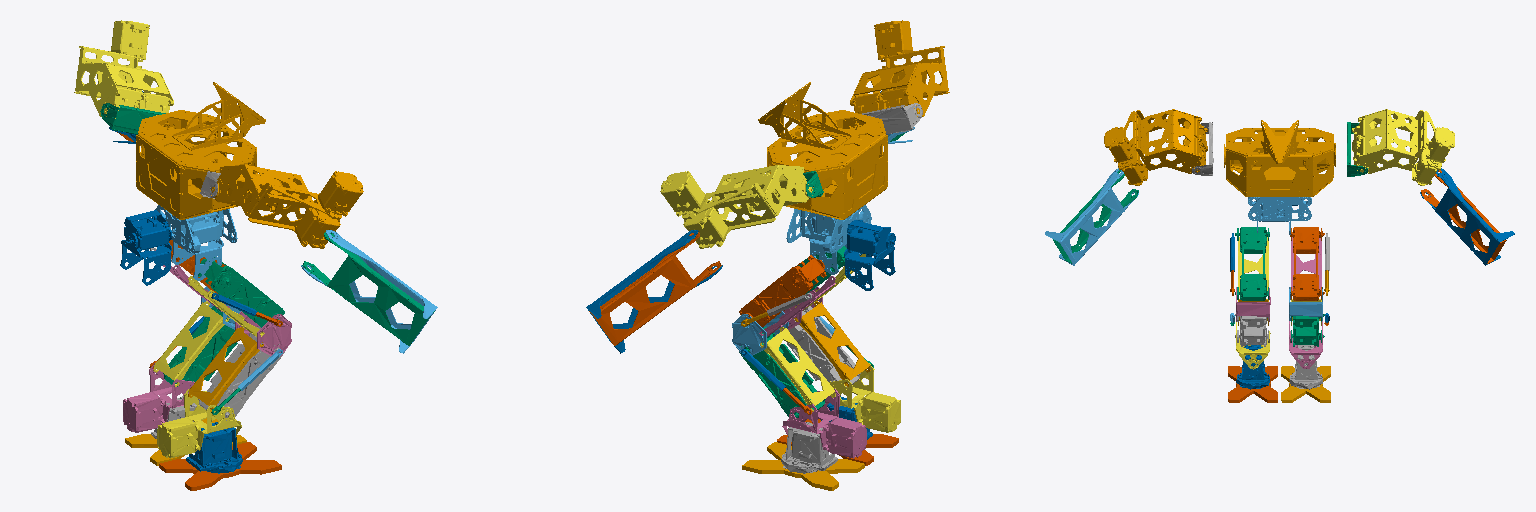
--- Render facts (derived) ---
The picture shows the robot from 3 angles, left to right: view 1: azimuth 30°, elevation 25°; view 2: azimuth 150°, elevation 25°; view 3: azimuth 270°, elevation 25°; orthographic projection.
Robot: ginko — 38 links, 37 joints (33 revolute, 4 prismatic); root link body_link0; default pose: all joints at 0.
Visible links, largest first — view 1: body_link0, arm_r_link1, arm_l_link1, arm_r_link3, leg_l_link0, leg_r_link6, leg_l_link6, leg_r_link1, leg_l_link5, leg_r_link5, leg_r_link8, leg_r_link7 (+9 smaller); view 2: body_link0, arm_l_link1, arm_r_link1, arm_l_link3, leg_l_link6, leg_l_link0, leg_r_link6, leg_l_link1, body_link1, leg_r_link5, leg_l_link5, leg_l_link8 (+9 smaller); view 3: body_link0, arm_l_link1, arm_r_link1, arm_r_link2, arm_l_link2, leg_r_link1, leg_l_link1, body_link1, arm_l_link3, arm_r_link3, leg_r_link8, leg_l_link8 (+8 smaller).
Link boxes in pixels (bbox=[...]): body_link0: bbox=[136, 82, 265, 219]; arm_r_link1: bbox=[211, 165, 363, 248]; arm_l_link1: bbox=[74, 20, 173, 118]; arm_r_link3: bbox=[302, 232, 434, 345]; leg_l_link0: bbox=[120, 210, 171, 285]; leg_r_link6: bbox=[157, 389, 241, 458]; leg_l_link6: bbox=[123, 363, 194, 432]; leg_r_link1: bbox=[198, 257, 284, 327]; leg_l_link5: bbox=[153, 301, 229, 386]; leg_r_link5: bbox=[188, 327, 263, 411]; leg_r_link8: bbox=[159, 442, 281, 490]; leg_r_link7: bbox=[186, 422, 242, 473]; body_link0: bbox=[758, 82, 887, 219]; arm_l_link1: bbox=[660, 165, 813, 248]; arm_r_link1: bbox=[850, 20, 949, 116]; arm_l_link3: bbox=[589, 232, 721, 345]; leg_l_link6: bbox=[782, 389, 866, 458]; leg_l_link0: bbox=[844, 220, 895, 290]; leg_r_link6: bbox=[829, 363, 900, 432]; leg_l_link1: bbox=[739, 255, 826, 326]; body_link1: bbox=[786, 205, 871, 253]; leg_r_link5: bbox=[794, 301, 870, 386]; leg_l_link5: bbox=[760, 327, 835, 411]; leg_l_link8: bbox=[742, 442, 864, 490]; body_link0: bbox=[1224, 120, 1335, 196]; arm_l_link1: bbox=[1352, 109, 1454, 185]; arm_r_link1: bbox=[1104, 109, 1207, 185]; arm_r_link2: bbox=[1045, 168, 1138, 265]; arm_l_link2: bbox=[1420, 168, 1514, 265]; leg_r_link1: bbox=[1235, 227, 1269, 300]; leg_l_link1: bbox=[1290, 227, 1324, 300]; body_link1: bbox=[1248, 197, 1311, 220]; arm_l_link3: bbox=[1421, 170, 1506, 263]; arm_r_link3: bbox=[1053, 170, 1138, 263]; leg_r_link8: bbox=[1228, 366, 1277, 402]; leg_l_link8: bbox=[1281, 366, 1330, 402].
Bounding box of the posed robot: 0.2318 × 0.7537 × 0.4849 m (x, y, z).
Meshes: 27 distinct files referenced, 36 mesh visuals loaded (26 binary STL); not drawn: 2 (reference not matched to a file when rendering).

URDF robot description (ginko):
<?xml version="1.0" ?>
<!-- =================================================================================== -->
<!-- |    This document was autogenerated by xacro from ./urdf_sim/robot_gazebo_spring.urdf.xacro | -->
<!-- |    EDITING THIS FILE BY HAND IS NOT RECOMMENDED                                 | -->
<!-- =================================================================================== -->
<robot name="ginko" xmlns:xacro="http://www.ros.org/wiki/xacro">
  <!-- Used for fixing robot to Gazebo 'base_link' -->
  <!-- <link name="base"/> -->
  <gazebo>
    <plugin filename="libgazebo_ros_control.so" name="gazebo_ros_control">
      <robotNamespace>/ginko</robotNamespace>
      <robotSimType>gazebo_ros_control/DefaultRobotHWSim</robotSimType>
    </plugin>
  </gazebo>
  <!-- chest -->
  <link name="body_link0">
    <collision>
      <origin rpy="0 0 0" xyz="0 0 0"/>
      <geometry>
        <mesh filename="package://ginko_description/meshes/stl/link00_chest.stl"/>
      </geometry>
    </collision>
    <visual>
      <origin rpy="0 0 0" xyz="0 0 0"/>
      <geometry>
        <mesh filename="package://ginko_description/meshes/stl/link00_chest.stl"/>
      </geometry>
    </visual>
    <inertial>
      <mass value="1.41502697"/>
      <origin rpy="0 0 0" xyz="0.00008301 0.00000908 0.03819562"/>
      <inertia ixx="0.00248548" ixy="-0.00000074" ixz="0.000003761" iyy="0.00121388" iyz="-0.00000042" izz="0.00287756"/>
    </inertial>
  </link>
  <!-- waist -->
  <link name="body_link1">
    <collision>
      <origin rpy="0 0 0" xyz="0 0 0"/>
      <geometry>
        <mesh filename="package://ginko_description/meshes/stl/link01_waist.stl"/>
      </geometry>
    </collision>
    <visual>
      <origin rpy="0 0 0" xyz="0 0 0"/>
      <geometry>
        <mesh filename="package://ginko_description/meshes/stl/link01_waist.stl"/>
      </geometry>
    </visual>
    <inertial>
      <mass value="0.33312665"/>
      <origin rpy="0 0 0" xyz="-0.01135452 -0.00000134 -0.02720222"/>
      <inertia ixx="0.00015328" ixy="0.00000003" ixz="0.00001078" iyy="0.00073745" iyz="0.00000000" izz="0.00073107"/>
    </inertial>
  </link>
  <joint name="body_joint1" type="revolute">
    <parent link="body_link0"/>
    <child link="body_link1"/>
    <origin rpy="0 0 0" xyz="0 0 0"/>
    <axis xyz="0 0 1"/>
    <limit effort="100.0" lower="-2.6" upper="2.6" velocity="10.0"/>
  </joint>
  <!-- chest -->
  <gazebo reference="body_link0">
    <kp>1000000.0</kp>
    <kd>100.0</kd>
    <mu1>1.0</mu1>
    <maxVel>1.0</maxVel>
    <minDepth>0.0001</minDepth>
    <maxContacts>5</maxContacts>
    <selfCollide>false</selfCollide>
    <!-- <dampingFactor>0.01</dampingFactor> -->
  </gazebo>
  <transmission name="body_tran0">
    <type>transmission_interface/SimpleTransmission</type>
    <joint name="body_joint1">
      <hardwareInterface>hardware_interface/EffortJointInterface</hardwareInterface>
    </joint>
    <actuator name="body_motor0">
      <hardwareInterface>hardware_interface/EffortJointInterface</hardwareInterface>
      <mechanicalReduction>1</mechanicalReduction>
    </actuator>
  </transmission>
  <!-- waist -->
  <gazebo reference="body_link1">
    <kp>1000000.0</kp>
    <kd>100.0</kd>
    <mu1>1.0</mu1>
    <maxVel>1.0</maxVel>
    <minDepth>0.0001</minDepth>
    <maxContacts>5</maxContacts>
    <selfCollide>false</selfCollide>
    <!-- <dampingFactor>0.01</dampingFactor> -->
  </gazebo>
  <!-- shoulder pitch. -->
  <link name="arm_l_link0">
    <collision>
      <origin rpy="0 0 0" xyz="0 0 0"/>
      <geometry>
        <mesh filename="package://ginko_description/meshes/stl/link09_l_arm01.stl"/>
      </geometry>
    </collision>
    <visual>
      <origin rpy="0 0 0" xyz="0 0 0"/>
      <geometry>
        <mesh filename="package://ginko_description/meshes/stl/link09_l_arm01.stl"/>
      </geometry>
    </visual>
    <inertial>
      <mass value="0.01356014"/>
      <origin rpy="0 0 0" xyz="-0.01125790 0.00529265 0.00000000"/>
      <inertia ixx="0.00000235" ixy="0.00000004" ixz="0.00000000" iyy="0.00001670" iyz="0.00000000" izz="0.00001606"/>
    </inertial>
  </link>
  <joint name="arm_l_joint0" type="revolute">
    <parent link="body_link0"/>
    <child link="arm_l_link0"/>
    <origin rpy="0 0.3927 0" xyz="0 0.10683 0.05115"/>
    <axis xyz="0 -1 0"/>
    <limit effort="100.0" lower="-2.6" upper="2.6" velocity="10.0"/>
  </joint>
  <!-- shoulder roll -->
  <link name="arm_l_link1">
    <collision>
      <origin rpy="0 0 0" xyz="0 0 0"/>
      <geometry>
        <mesh filename="package://ginko_description/meshes/stl/link10_l_arm02.stl"/>
      </geometry>
    </collision>
    <visual>
      <origin rpy="0 0 0" xyz="0 0 0"/>
      <geometry>
        <mesh filename="package://ginko_description/meshes/stl/link10_l_arm02.stl"/>
      </geometry>
    </visual>
    <inertial>
      <mass value="0.33139947"/>
      <origin rpy="0 0 0" xyz="-0.02612786 0.02650564 -0.06333369"/>
      <inertia ixx="0.00115128" ixy="0.00015366" ixz="-0.00031848" iyy="0.00113572" iyz="-0.00037104" izz="0.00064743"/>
    </inertial>
  </link>
  <joint name="arm_l_joint1" type="revolute">
    <parent link="arm_l_link0"/>
    <child link="arm_l_link1"/>
    <origin rpy="1.1781 0 0" xyz="0.035 0.0246 0"/>
    <axis xyz="1 0 0"/>
    <limit effort="100.0" lower="-0.85" upper="1.18" velocity="10.0"/>
  </joint>
  <!-- scissors -->
  <link name="arm_l_link2">
    <collision>
      <origin rpy="0 0 0" xyz="0 0 0"/>
      <geometry>
        <mesh filename="package://ginko_description/meshes/stl/link11_l_scissor01.stl"/>
      </geometry>
    </collision>
    <visual>
      <origin rpy="0 0 0" xyz="0 0 0"/>
      <geometry>
        <mesh filename="package://ginko_description/meshes/stl/link11_l_scissor01.stl"/>
      </geometry>
    </visual>
    <inertial>
      <mass value="0.03287850"/>
      <origin rpy="0 0 0" xyz="0.08234859 -0.030246866 0.00514112"/>
      <inertia ixx="0.00002277" ixy="-0.00000014" ixz="-0.00000058" iyy="0.00008197" iyz="-0.00000001" izz="0.00010105"/>
    </inertial>
  </link>
  <joint name="arm_l_joint2" type="revolute">
    <parent link="arm_l_link1"/>
    <child link="arm_l_link2"/>
    <origin rpy="0 0.7854 0" xyz="0.0092 0.0547 -0.11295"/>
    <axis xyz="0 1 0"/>
    <limit effort="100.0" lower="-2.36" upper="2.36" velocity="10.0"/>
  </joint>
  <link name="arm_l_link3">
    <collision>
      <origin rpy="0 0 0" xyz="0 0 0"/>
      <geometry>
        <mesh filename="package://ginko_description/meshes/stl/link12_l_scissor02.stl"/>
      </geometry>
    </collision>
    <visual>
      <origin rpy="0 0 0" xyz="0 0 0"/>
      <geometry>
        <mesh filename="package://ginko_description/meshes/stl/link12_l_scissor02.stl"/>
      </geometry>
    </visual>
    <inertial>
      <mass value="0.02936110"/>
      <origin rpy="0 0 0" xyz="0.07807033 0.02515230 -0.00665437"/>
      <inertia ixx="0.00001452" ixy="0.00000023" ixz="-0.00000245" iyy="0.00006407" iyz="-0.00000002" izz="0.00008024"/>
    </inertial>
  </link>
  <joint name="arm_l_joint3" type="revolute">
    <parent link="arm_l_link1"/>
    <child link="arm_l_link3"/>
    <origin rpy="0 0.7854 0" xyz="0.0092 -0.0018 -0.11295"/>
    <axis xyz="0 1 0"/>
    <limit effort="100.0" lower="-2.36" upper="2.36" velocity="10.0"/>
  </joint>
  <!-- LiDAR -->
  <link name="arm_l_urg_link">
    <collision>
      <origin rpy="0 0 0" xyz="0 0 0"/>
      <geometry>
        <mesh filename="package://ginko_description/meshes/stl/urg.stl"/>
      </geometry>
    </collision>
    <visual>
      <origin rpy="0 0 0" xyz="0 0 0"/>
      <geometry>
        <mesh filename="package://ginko_description/meshes/stl/urg.stl"/>
      </geometry>
    </visual>
    <inertial>
      <mass value="0.16705492"/>
      <origin rpy="0 0 0" xyz="-0.00014579 0.00000831 -0.02360505"/>
      <inertia ixx="0.00008801" ixy="0.00000000" ixz="-0.00000049" iyy="0.00008854" iyz="-0.00000004" izz="0.00006019"/>
    </inertial>
  </link>
  <!-- use zero-limited revolute joint for fixed joint (SDF) -->
  <joint name="arm_l_urg_joint" type="revolute">
    <parent link="arm_l_link1"/>
    <child link="arm_l_urg_link"/>
    <origin rpy="0 1.57 -1.57" xyz="-0.0456 -0.01715 -0.06795"/>
    <axis xyz="0 0 1"/>
    <limit effort="0.0" lower="0.0" upper="0.0" velocity="0.0"/>
  </joint>
  <!-- shoulder pitch. -->
  <gazebo reference="arm_l_link0">
    <kp>1000000.0</kp>
    <kd>100.0</kd>
    <mu1>1.0</mu1>
    <maxVel>1.0</maxVel>
    <minDepth>0.0001</minDepth>
    <maxContacts>5</maxContacts>
    <selfCollide>false</selfCollide>
    <!-- <dampingFactor>0.01</dampingFactor> -->
  </gazebo>
  <!-- shoulder roll -->
  <gazebo reference="arm_l_link1">
    <kp>1000000.0</kp>
    <kd>100.0</kd>
    <mu1>1.0</mu1>
    <maxVel>1.0</maxVel>
    <minDepth>0.0001</minDepth>
    <maxContacts>5</maxContacts>
    <selfCollide>false</selfCollide>
    <!-- <dampingFactor>0.01</dampingFactor> -->
  </gazebo>
  <!-- scissors -->
  <gazebo reference="arm_l_link2">
    <kp>1000000.0</kp>
    <kd>100.0</kd>
    <mu1>1.0</mu1>
    <maxVel>1.0</maxVel>
    <minDepth>0.0001</minDepth>
    <maxContacts>5</maxContacts>
    <selfCollide>false</selfCollide>
    <!-- <dampingFactor>0.01</dampingFactor> -->
  </gazebo>
  <gazebo reference="arm_l_link3">
    <kp>1000000.0</kp>
    <kd>100.0</kd>
    <mu1>1.0</mu1>
    <maxVel>1.0</maxVel>
    <minDepth>0.0001</minDepth>
    <maxContacts>5</maxContacts>
    <selfCollide>false</selfCollide>
    <!-- <dampingFactor>0.01</dampingFactor> -->
  </gazebo>
  <transmission name="arm_l_tran0">
    <type>transmission_interface/SimpleTransmission</type>
    <joint name="arm_l_joint0">
      <hardwareInterface>hardware_interface/EffortJointInterface</hardwareInterface>
    </joint>
    <actuator name="arm_l_motor0">
      <hardwareInterface>hardware_interface/EffortJointInterface</hardwareInterface>
      <mechanicalReduction>1</mechanicalReduction>
    </actuator>
  </transmission>
  <transmission name="arm_l_tran1">
    <type>transmission_interface/SimpleTransmission</type>
    <joint name="arm_l_joint1">
      <hardwareInterface>hardware_interface/EffortJointInterface</hardwareInterface>
    </joint>
    <actuator name="arm_l_motor1">
      <hardwareInterface>hardware_interface/EffortJointInterface</hardwareInterface>
      <mechanicalReduction>1</mechanicalReduction>
    </actuator>
  </transmission>
  <transmission name="arm_l_tran2">
    <type>transmission_interface/SimpleTransmission</type>
    <joint name="arm_l_joint2">
      <hardwareInterface>hardware_interface/EffortJointInterface</hardwareInterface>
    </joint>
    <actuator name="arm_l_motor2">
      <hardwareInterface>hardware_interface/EffortJointInterface</hardwareInterface>
      <mechanicalReduction>1</mechanicalReduction>
    </actuator>
  </transmission>
  <transmission name="arm_l_tran3">
    <type>transmission_interface/SimpleTransmission</type>
    <joint name="arm_l_joint3">
      <hardwareInterface>hardware_interface/EffortJointInterface</hardwareInterface>
    </joint>
    <actuator name="arm_l_motor3">
      <hardwareInterface>hardware_interface/EffortJointInterface</hardwareInterface>
      <mechanicalReduction>1</mechanicalReduction>
    </actuator>
  </transmission>
  <!-- shoulder pitch. -->
  <link name="arm_r_link0">
    <collision>
      <origin rpy="0 0 0" xyz="0 0 0"/>
      <geometry>
        <mesh filename="package://ginko_description/meshes/stl/link09_r_arm01.stl"/>
      </geometry>
    </collision>
    <visual>
      <origin rpy="0 0 0" xyz="0 0 0"/>
      <geometry>
        <mesh filename="package://ginko_description/meshes/stl/link09_r_arm01.stl"/>
      </geometry>
    </visual>
    <inertial>
      <mass value="0.01356014"/>
      <origin rpy="0 0 0" xyz="-0.01125790 -0.00529265 0.00000000"/>
      <inertia ixx="0.00000235" ixy="-0.00000004" ixz="0.00000000" iyy="0.00001670" iyz="0.00000000" izz="0.00001606"/>
    </inertial>
  </link>
  <joint name="arm_r_joint0" type="revolute">
    <parent link="body_link0"/>
    <child link="arm_r_link0"/>
    <origin rpy="0 0.3927 0" xyz="0 -0.10683 0.05115"/>
    <axis xyz="0 1 0"/>
    <limit effort="100.0" lower="-2.6" upper="2.6" velocity="10.0"/>
  </joint>
  <!-- shoulder roll -->
  <link name="arm_r_link1">
    <collision>
      <origin rpy="0 0 0" xyz="0 0 0"/>
      <geometry>
        <mesh filename="package://ginko_description/meshes/stl/link10_r_arm02.stl"/>
      </geometry>
    </collision>
    <visual>
      <origin rpy="0 0 0" xyz="0 0 0"/>
      <geometry>
        <mesh filename="package://ginko_description/meshes/stl/link10_r_arm02.stl"/>
      </geometry>
    </visual>
    <inertial>
      <mass value="0.33139947"/>
      <origin rpy="0 0 0" xyz="-0.02612786 -0.02650564 -0.06333369"/>
      <inertia ixx="0.00115128" ixy="-0.00015366" ixz="-0.00031848" iyy="0.00113572" iyz="0.00037104" izz="0.00064743"/>
    </inertial>
  </link>
  <joint name="arm_r_joint1" type="revolute">
    <parent link="arm_r_link0"/>
    <child link="arm_r_link1"/>
    <origin rpy="-1.1781 0 0" xyz="0.035 -0.0246 0"/>
    <axis xyz="1 0 0"/>
    <limit effort="100.0" lower="-0.85" upper="1.18" velocity="10.0"/>
  </joint>
  <!-- scissors -->
  <link name="arm_r_link2">
    <collision>
      <origin rpy="0 0 0" xyz="0 0 0"/>
      <geometry>
        <mesh filename="package://ginko_description/meshes/stl/link11_r_scissor01.stl"/>
      </geometry>
    </collision>
    <visual>
      <origin rpy="0 0 0" xyz="0 0 0"/>
      <geometry>
        <mesh filename="package://ginko_description/meshes/stl/link11_r_scissor01.stl"/>
      </geometry>
    </visual>
    <inertial>
      <mass value="0.03287850"/>
      <origin rpy="0 0 0" xyz="0.08234859 0.030246866 0.00514112"/>
      <inertia ixx="0.00002277" ixy="0.00000014" ixz="-0.00000058" iyy="0.00008197" iyz="0.00000001" izz="0.00010105"/>
    </inertial>
  </link>
  <joint name="arm_r_joint2" type="revolute">
    <parent link="arm_r_link1"/>
    <child link="arm_r_link2"/>
    <origin rpy="0 0.7854 0" xyz="0.0092 -0.0547 -0.11295"/>
    <axis xyz="0 -1 0"/>
    <limit effort="100.0" lower="-2.36" upper="2.36" velocity="10.0"/>
  </joint>
  <link name="arm_r_link3">
    <collision>
      <origin rpy="0 0 0" xyz="0 0 0"/>
      <geometry>
        <mesh filename="package://ginko_description/meshes/stl/link12_r_scissor02.stl"/>
      </geometry>
    </collision>
    <visual>
      <origin rpy="0 0 0" xyz="0 0 0"/>
      <geometry>
        <mesh filename="package://ginko_description/meshes/stl/link12_r_scissor02.stl"/>
      </geometry>
    </visual>
    <inertial>
      <mass value="0.02936110"/>
      <origin rpy="0 0 0" xyz="0.07807033 -0.02515230 -0.00665437"/>
      <inertia ixx="0.00001452" ixy="-0.00000023" ixz="-0.00000245" iyy="0.00006407" iyz="0.00000002" izz="0.00008024"/>
    </inertial>
  </link>
  <joint name="arm_r_joint3" type="revolute">
    <parent link="arm_r_link1"/>
    <child link="arm_r_link3"/>
    <origin rpy="0 0.7854 0" xyz="0.0092 0.0018 -0.11295"/>
    <axis xyz="0 -1 0"/>
    <limit effort="100.0" lower="-2.36" upper="2.36" velocity="10.0"/>
  </joint>
  <!-- LiDAR -->
  <link name="arm_r_urg_link">
    <collision>
      <origin rpy="0 0 0" xyz="0 0 0"/>
      <geometry>
        <mesh filename="package://ginko_description/meshes/stl/urg.stl"/>
      </geometry>
    </collision>
    <visual>
      <origin rpy="0 0 0" xyz="0 0 0"/>
      <geometry>
        <mesh filename="package://ginko_description/meshes/stl/urg.stl"/>
      </geometry>
    </visual>
    <inertial>
      <mass value="0.16705492"/>
      <origin rpy="0 0 0" xyz="-0.00014579 0.00000831 -0.02360505"/>
      <inertia ixx="0.00008801" ixy="0.00000000" ixz="-0.00000049" iyy="0.00008854" iyz="-0.00000004" izz="0.00006019"/>
    </inertial>
  </link>
  <!-- use zero-limited revolute joint for fixed joint (SDF) -->
  <joint name="arm_r_urg_joint" type="revolute">
    <parent link="arm_r_link1"/>
    <child link="arm_r_urg_link"/>
    <origin rpy="0 1.57 1.57" xyz="-0.0456 0.01715 -0.06795"/>
    <axis xyz="0 0 1"/>
    <limit effort="0.0" lower="0.0" upper="0.0" velocity="0.0"/>
  </joint>
  <!-- shoulder pitch. -->
  <gazebo reference="arm_r_link0">
    <kp>1000000.0</kp>
    <kd>100.0</kd>
    <mu1>1.0</mu1>
    <maxVel>1.0</maxVel>
    <minDepth>0.0001</minDepth>
    <maxContacts>5</maxContacts>
    <selfCollide>false</selfCollide>
    <!-- <dampingFactor>0.01</dampingFactor> -->
  </gazebo>
  <!-- shoulder roll -->
  <gazebo reference="arm_r_link1">
    <kp>1000000.0</kp>
    <kd>100.0</kd>
    <mu1>1.0</mu1>
    <maxVel>1.0</maxVel>
    <minDepth>0.0001</minDepth>
    <maxContacts>5</maxContacts>
    <selfCollide>false</selfCollide>
    <!-- <dampingFactor>0.01</dampingFactor> -->
  </gazebo>
  <!-- scissors -->
  <gazebo reference="arm_r_link2">
    <kp>1000000.0</kp>
    <kd>100.0</kd>
    <mu1>1.0</mu1>
    <maxVel>1.0</maxVel>
    <minDepth>0.0001</minDepth>
    <maxContacts>5</maxContacts>
    <selfCollide>false</selfCollide>
    <!-- <dampingFactor>0.01</dampingFactor> -->
  </gazebo>
  <gazebo reference="arm_r_link3">
    <kp>1000000.0</kp>
    <kd>100.0</kd>
    <mu1>1.0</mu1>
    <maxVel>1.0</maxVel>
    <minDepth>0.0001</minDepth>
    <maxContacts>5</maxContacts>
    <selfCollide>false</selfCollide>
    <!-- <dampingFactor>0.01</dampingFactor> -->
  </gazebo>
  <transmission name="arm_r_tran0">
    <type>transmission_interface/SimpleTransmission</type>
    <joint name="arm_r_joint0">
      <hardwareInterface>hardware_interface/EffortJointInterface</hardwareInterface>
    </joint>
    <actuator name="arm_r_motor0">
      <hardwareInterface>hardware_interface/EffortJointInterface</hardwareInterface>
      <mechanicalReduction>1</mechanicalReduction>
    </actuator>
  </transmission>
  <transmission name="arm_r_tran1">
    <type>transmission_interface/SimpleTransmission</type>
    <joint name="arm_r_joint1">
      <hardwareInterface>hardware_interface/EffortJointInterface</hardwareInterface>
    </joint>
    <actuator name="arm_r_motor1">
      <hardwareInterface>hardware_interface/EffortJointInterface</hardwareInterface>
      <mechanicalReduction>1</mechanicalReduction>
    </actuator>
  </transmission>
  <transmission name="arm_r_tran2">
    <type>transmission_interface/SimpleTransmission</type>
    <joint name="arm_r_joint2">
      <hardwareInterface>hardware_interface/EffortJointInterface</hardwareInterface>
    </joint>
    <actuator name="arm_r_motor2">
      <hardwareInterface>hardware_interface/EffortJointInterface</hardwareInterface>
      <mechanicalReduction>1</mechanicalReduction>
    </actuator>
  </transmission>
  <transmission name="arm_r_tran3">
    <type>transmission_interface/SimpleTransmission</type>
    <joint name="arm_r_joint3">
      <hardwareInterface>hardware_interface/EffortJointInterface</hardwareInterface>
    </joint>
    <actuator name="arm_r_motor3">
      <hardwareInterface>hardware_interface/EffortJointInterface</hardwareInterface>
      <mechanicalReduction>1</mechanicalReduction>
    </actuator>
  </transmission>
  <!-- Femoral -->
  <link name="leg_l_link0">
    <collision>
      <origin rpy="0 0 0" xyz="0 0 0"/>
      <geometry>
        <mesh filename="package://ginko_description/meshes/stl/link02_l_femoral.stl"/>
      </geometry>
    </collision>
    <visual>
      <origin rpy="0 0 0" xyz="0 0 0"/>
      <geometry>
        <mesh filename="package://ginko_description/meshes/stl/link02_l_femoral.stl"/>
      </geometry>
    </visual>
    <inertial>
      <mass value="0.03433352"/>
      <origin rpy="0 0 0" xyz="0.02930795 0.03723759 -0.02605386"/>
      <inertia ixx="0.00002443" ixy="-0.00000021" ixz="-0.00000021" iyy="0.00002287" iyz="-0.00000391" izz="0.00002983"/>
    </inertial>
  </link>
  <joint name="leg_l_joint0" type="revolute">
    <parent link="body_link1"/>
    <child link="leg_l_link0"/>
    <origin rpy="0 0 0" xyz="-0.0404 0.0 -0.0409"/>
    <axis xyz="-1 0 0"/>
    <limit effort="100.0" lower="-0.8" upper="1.1781" velocity="10.0"/>
  </joint>
  <!-- parallel link (upper-1st) -->
  <link name="leg_l_link1">
    <collision>
      <origin rpy="0 0 0" xyz="0 0 0"/>
      <geometry>
        <mesh filename="package://ginko_description/meshes/stl/link03_l_leg01.stl"/>
      </geometry>
    </collision>
    <visual>
      <origin rpy="0 0 0" xyz="0 0 0"/>
      <geometry>
        <mesh filename="package://ginko_description/meshes/stl/link03_l_leg01.stl"/>
      </geometry>
    </visual>
    <inertial>
      <mass value="0.18525692"/>
      <origin rpy="0 0 0" xyz="0.05000000 0.03285059 0.00068146"/>
      <inertia ixx="0.00041331" ixy="-0.00003605" ixz="-0.00000000" iyy="0.00027917" iyz="-0.00000184" izz="0.00066510"/>
    </inertial>
  </link>
  <joint name="leg_l_joint1" type="revolute">
    <parent link="leg_l_link0"/>
    <child link="leg_l_link1"/>
    <origin rpy="0 0.7854 0" xyz="0.0433 0.0175 -0.0481"/>
    <axis xyz="0 -1 0"/>
    <limit effort="100.0" lower="-1.3" upper="0.7854" velocity="10.0"/>
  </joint>
  <link name="leg_l_link2">
    <collision>
      <origin rpy="0 0 0" xyz="0 0 0"/>
      <geometry>
        <mesh filename="package://ginko_description/meshes/stl/link04_l_leg02.stl"/>
      </geometry>
    </collision>
    <visual>
      <origin rpy="0 0 0" xyz="0 0 0"/>
      <geometry>
        <mesh filename="package://ginko_description/meshes/stl/link04_l_leg02.stl"/>
      </geometry>
    </visual>
    <inertial>
      <mass value="0.01646643"/>
      <origin rpy="0 0 0" xyz="0.05000000 0.02495100 -0.00491150"/>
      <inertia ixx="0.00000640" ixy="0.00000000" ixz="0.00000000" iyy="0.00001642" iyz="0.00000000" izz="0.00002264"/>
    </inertial>
  </link>
  <joint name="leg_l_joint2" type="revolute">
    <parent link="leg_l_link0"/>
    <child link="leg_l_link2"/>
    <origin rpy="0 0.7854 0" xyz="0.022 0.0175 -0.06015"/>
    <axis xyz="0 -1 0"/>
    <limit effort="100.0" lower="-3.141593" upper="3.141593" velocity="10.0"/>
  </joint>
  <!-- spring -->
  <link name="leg_l_spring_link0">
    <!-- 	    	<collision>
				<origin xyz="0 0 0" rpy="0 0 0"/>
	    		<geometry>                                                              
					<mesh filename="package://ginko_description/meshes/stl/spring1.stl"/>
	    		</geometry>
			</collision> -->
    <visual>
      <origin rpy="0 0 0" xyz="0 0 0"/>
      <geometry>
        <mesh filename="package://ginko_description/meshes/stl/spring1.stl"/>
      </geometry>
    </visual>
    <inertial>
      <mass value="0.00143865"/>
      <origin rpy="0 0 0" xyz="0.03091683 0.0 0.0"/>
      <inertia ixx="0.00000001" ixy="0.00000000" ixz="0.00000000" iyy="0.00000060" iyz="0.00000000" izz="0.00000060"/>
    </inertial>
  </link>
  <joint name="leg_l_spring_joint0" type="revolute">
    <parent link="leg_l_link0"/>
    <child link="leg_l_spring_link0"/>
    <origin rpy="0 0.56756754 0" xyz="0.022 0.0755 -0.06015"/>
    <axis xyz="0 -1 0"/>
    <limit effort="0.0" lower="-3.141593" upper="3.141593" velocity="10.0"/>
  </joint>
  <link name="leg_l_spring_link1">
    <!-- 	    	<collision>
				<origin xyz="0 0 0" rpy="0 0 0"/>
	    		<geometry>                                                              
					<mesh filename="package://ginko_description/meshes/stl/spring2.stl"/>
	    		</geometry>
			</collision> -->
    <visual>
      <origin rpy="0 0 0" xyz="0 0 0"/>
      <geometry>
        <mesh filename="package://ginko_description/meshes/stl/spring2.stl"/>
      </geometry>
    </visual>
    <inertial>
      <mass value="0.00143865"/>
      <origin rpy="0 0 0" xyz="0.03091683 0.0 0.0"/>
      <inertia ixx="0.00000001" ixy="0.00000000" ixz="0.00000000" iyy="0.00000060" iyz="0.00000000" izz="0.00000060"/>
    </inertial>
  </link>
  <joint name="leg_l_spring_joint1" type="prismatic">
    <parent link="leg_l_spring_link0"/>
    <child link="leg_l_spring_link1"/>
    <origin rpy="0 3.141593 0" xyz="0.10911938 0.0 0.0"/>
    <axis xyz="0 -1 0"/>
    <limit effort="1000.0" lower="-3.141593" upper="3.141593" velocity="10.0"/>
  </joint>
  <!-- knee -->
  <link name="leg_l_link3">
    <collision>
      <origin rpy="0 0 0" xyz="0 0 0"/>
      <geometry>
        <mesh filename="package://ginko_description/meshes/stl/link05_l_knee.stl"/>
      </geometry>
    </collision>
    <visual>
      <origin rpy="0 0 0" xyz="0 0 0"/>
      <geometry>
        <mesh filename="package://ginko_description/meshes/stl/link05_l_knee.stl"/>
      </geometry>
    </visual>
    <inertial>
      <mass value="0.01781176"/>
      <origin rpy="0 0 0" xyz="0.00393357 0.02364163 -0.01930000"/>
      <inertia ixx="0.00001301" ixy="0.00000008" ixz="0.00000000" iyy="0.00000700" iyz="0.00000000" izz="0.00001388"/>
    </inertial>
  </link>
  <joint name="leg_l_joint3" type="revolute">
    <parent link="leg_l_link1"/>
    <child link="leg_l_link3"/>
    <origin rpy="0 -0.7854 0" xyz="0.1 0.0 0.0"/>
    <axis xyz="0 1 0"/>
    <limit effort="100.0" lower="-3.141593" upper="3.141593" velocity="10.0"/>
  </joint>
  <!-- parallel link (lower-1st) -->
  <link name="leg_l_link4">
    <collision>
      <origin rpy="0 0 0" xyz="0 0 0"/>
      <geometry>
        <mesh filename="package://ginko_description/meshes/stl/link03_l_leg01.stl"/>
      </geometry>
    </collision>
    <visual>
      <origin rpy="0 0 0" xyz="0 0 0"/>
      <geometry>
        <mesh filename="package://ginko_description/meshes/stl/link03_l_leg01.stl"/>
      </geometry>
    </visual>
    <inertial>
      <mass value="0.18525692"/>
      <origin rpy="0 0 0" xyz="0.05000000 0.03285059 0.00068146"/>
      <inertia ixx="0.00041331" ixy="-0.00003605" ixz="-0.00000000" iyy="0.00027917" iyz="-0.00000184" izz="0.00066510"/>
    </inertial>
  </link>
  <joint name="leg_l_joint4" type="revolute">
    <parent link="leg_l_link3"/>
    <child link="leg_l_link4"/>
    <origin rpy="0 2.3562 0" xyz="0 0 -0.0386"/>
    <axis xyz="0 -1 0"/>
    <limit effort="100.0" lower="-0.7854" upper="1.3" velocity="10.0"/>
  </joint>
  <!-- parallel link (lower-2nd) -->
  <link name="leg_l_link5">
    <collision>
      <origin rpy="0 0 0" xyz="0 0 0"/>
      <geometry>
        <mesh filename="package://ginko_description/meshes/stl/link04_l_leg02.stl"/>
      </geometry>
    </collision>
    <visual>
      <origin rpy="0 0 0" xyz="0 0 0"/>
      <geometry>
        <mesh filename="package://ginko_description/meshes/stl/link04_l_leg02.stl"/>
      </geometry>
    </visual>
    <inertial>
      <mass value="0.01646643"/>
      <origin rpy="0 0 0" xyz="0.05000000 0.02495100 -0.00491150"/>
      <inertia ixx="0.00000640" ixy="0.00000000" ixz="0.00000000" iyy="0.00001642" iyz="0.00000000" izz="0.00002264"/>
    </inertial>
  </link>
  <joint name="leg_l_joint5" type="revolute">
    <parent link="leg_l_link3"/>
    <child link="leg_l_link5"/>
    <origin rpy="0 2.3562 0" xyz="-0.0213 0 -0.02655"/>
    <axis xyz="0 -1 0"/>
    <limit effort="100.0" lower="-3.141593" upper="3.141593" velocity="10.0"/>
  </joint>
  <!-- spring -->
  <link name="leg_l_spring_link2">
    <!-- 	    	<collision>
				<origin xyz="0 0 0" rpy="0 0 0"/>
	    		<geometry>                                                              
					<mesh filename="package://ginko_description/meshes/stl/spring1.stl"/>
	    		</geometry>
			</collision> -->
    <visual>
      <origin rpy="0 0 0" xyz="0 0 0"/>
      <geometry>
        <mesh filename="package://ginko_description/meshes/stl/spring1.stl"/>
      </geometry>
    </visual>
    <inertial>
      <mass value="0.00143865"/>
      <origin rpy="0 2.138363867 0" xyz="0.03091683 0.0 0.0"/>
      <inertia ixx="0.00000001" ixy="0.00000000" ixz="0.00000000" iyy="0.00000060" iyz="0.00000000" izz="0.00000060"/>
    </inertial>
  </link>
  <joint name="leg_l_spring_joint2" type="revolute">
    <parent link="leg_l_link3"/>
    <child link="leg_l_spring_link2"/>
    <origin rpy="0 2.574025114 0" xyz="0 0.058 -0.0386"/>
    <axis xyz="0 -1 0"/>
    <limit effort="0.0" lower="-3.141593" upper="3.141593" velocity="10.0"/>
  </joint>
  <link name="leg_l_spring_link3">
    <!-- 	    	<collision>
				<origin xyz="0 0 0" rpy="0 0 0"/>
	    		<geometry>                                                              
					<mesh filename="package://ginko_description/meshes/stl/spring2.stl"/>
	    		</geometry>
			</collision> -->
    <visual>
      <origin rpy="0 0 0" xyz="0 0 0"/>
      <geometry>
        <mesh filename="package://ginko_description/meshes/stl/spring2.stl"/>
      </geometry>
    </visual>
    <inertial>
      <mass value="0.00143865"/>
      <origin rpy="0 0 0" xyz="0.03091683 0.0 0.0"/>
      <inertia ixx="0.00000001" ixy="0.00000000" ixz="0.00000000" iyy="0.00000060" iyz="0.00000000" izz="0.00000060"/>
    </inertial>
  </link>
  <joint name="leg_l_spring_joint3" type="prismatic">
    <parent link="leg_l_spring_link2"/>
    <child link="leg_l_spring_link3"/>
    <origin rpy="0 3.141593 0" xyz="0.10911938 0.0 0.0"/>
    <axis xyz="0 -1 0"/>
    <limit effort="1000.0" lower="-3.141593" upper="3.141593" velocity="10.0"/>
  </joint>
  <!-- toe -->
  <link name="leg_l_link6">
    <collision>
      <origin rpy="0 0 0" xyz="0 0 0"/>
      <geometry>
        <mesh filename="package://ginko_description/meshes/stl/link06_l_toe01.stl"/>
      </geometry>
    </collision>
    <visual>
      <origin rpy="0 0 0" xyz="0 0 0"/>
      <geometry>
        <mesh filename="package://ginko_description/meshes/stl/link06_l_toe01.stl"/>
      </geometry>
    </visual>
    <inertial>
      <mass value="0.08799204"/>
      <origin rpy="0 0 0" xyz="-0.04166125 0.02463880 -0.02586249"/>
      <inertia ixx="0.00002815" ixy="-0.00000041" ixz="0.00000980" iyy="0.00006846" iyz="-0.00000026" izz="0.00006529"/>
    </inertial>
  </link>
  <joint name="leg_l_joint6" type="revolute">
    <parent link="leg_l_link4"/>
    <child link="leg_l_link6"/>
    <origin rpy="0 -2.3562 0" xyz="0.1 0.0 0.0"/>
    <axis xyz="0 1 0"/>
    <limit effort="100.0" lower="-3.141593" upper="3.141593" velocity="10.0"/>
  </joint>
  <link name="leg_l_link7">
    <collision>
      <origin rpy="0 0 0" xyz="0 0 0"/>
      <geometry>
        <mesh filename="package://ginko_description/meshes/stl/link07_l_toe02.stl"/>
      </geometry>
    </collision>
    <visual>
      <origin rpy="0 0 0" xyz="0 0 0"/>
      <geometry>
        <mesh filename="package://ginko_description/meshes/stl/link07_l_toe02.stl"/>
      </geometry>
    </visual>
    <inertial>
      <mass value="0.10920041"/>
      <origin rpy="0 0 0" xyz="0.02658756 0.00000053 -0.01782468"/>
      <inertia ixx="0.00003853" ixy="0.00000000" ixz="-0.00000479" iyy="0.00005192" iyz="0.00000000" izz="0.00003521"/>
    </inertial>
  </link>
  <joint name="leg_l_joint7" type="revolute">
    <parent link="leg_l_link6"/>
    <child link="leg_l_link7"/>
    <origin rpy="0 0 0" xyz="-0.028 0.02475 -0.0391"/>
    <axis xyz="-1 0 0"/>
    <limit effort="100.0" lower="-1.6" upper="1.6" velocity="10.0"/>
  </joint>
  <link name="leg_l_link8">
    <collision>
      <origin rpy="0 0 0" xyz="0 0 0"/>
      <geometry>
        <mesh filename="package://ginko_description/meshes/stl/link08_l_toe03.stl"/>
      </geometry>
    </collision>
    <visual>
      <origin rpy="0 0 0" xyz="0 0 0"/>
      <geometry>
        <mesh filename="package://ginko_description/meshes/stl/link08_l_toe03.stl"/>
      </geometry>
    </visual>
    <inertial>
      <mass value="0.05363111"/>
      <origin rpy="0 0 0" xyz="0.00000000 0.00000000 -0.00269342"/>
      <inertia ixx="0.00002877" ixy="0.00000000" ixz="0.00000000" iyy="0.00007083" iyz="-0.00000000" izz="0.00009934"/>
    </inertial>
  </link>
  <joint name="leg_l_joint8" type="revolute">
    <parent link="leg_l_link7"/>
    <child link="leg_l_link8"/>
    <origin rpy="0 0 0" xyz="0.0342 0 -0.04"/>
    <axis xyz="0 0 1"/>
    <limit effort="100.0" lower="-2.6" upper="2.6" velocity="10.0"/>
  </joint>
  <!-- Link conencts from body. Femoral first. -->
  <gazebo reference="leg_l_link0">
    <kp>1000000.0</kp>
    <kd>100.0</kd>
    <mu1>0.0</mu1>
    <maxVel>3.0</maxVel>
    <minDepth>0.0001</minDepth>
    <maxContacts>5</maxContacts>
    <selfCollide>false</selfCollide>
    <dampingFactor>0.01</dampingFactor>
  </gazebo>
  <!-- parallel link (upper-1st) -->
  <gazebo reference="leg_l_link1">
    <kp>1000000.0</kp>
    <kd>100.0</kd>
    <mu1>0.0</mu1>
    <maxVel>3.0</maxVel>
    <minDepth>0.0001</minDepth>
    <maxContacts>5</maxContacts>
    <selfCollide>true</selfCollide>
    <dampingFactor>0.01</dampingFactor>
  </gazebo>
  <!-- parallel link (upper-2nd) -->
  <gazebo reference="leg_l_link2">
    <kp>1000000.0</kp>
    <kd>100.0</kd>
    <mu1>0.0</mu1>
    <maxVel>3.0</maxVel>
    <minDepth>0.0001</minDepth>
    <maxContacts>5</maxContacts>
    <selfCollide>false</selfCollide>
    <dampingFactor>0.01</dampingFactor>
  </gazebo>
  <!-- knee -->
  <gazebo reference="leg_l_link3">
    <kp>1000000.0</kp>
    <kd>100.0</kd>
    <mu1>0.3</mu1>
    <maxVel>3.0</maxVel>
    <minDepth>0.0001</minDepth>
    <maxContacts>5</maxContacts>
    <selfCollide>false</selfCollide>
    <dampingFactor>0.01</dampingFactor>
  </gazebo>
  <!-- parallel link (lower-1st) -->
  <gazebo reference="leg_l_link4">
    <kp>1000000.0</kp>
    <kd>100.0</kd>
    <mu1>0.0</mu1>
    <maxVel>3.0</maxVel>
    <minDepth>0.0001</minDepth>
    <maxContacts>5</maxContacts>
    <selfCollide>true</selfCollide>
    <dampingFactor>0.01</dampingFactor>
  </gazebo>
  <!-- parallel link (lower-2nd) -->
  <gazebo reference="leg_l_link5">
    <kp>1000000.0</kp>
    <kd>100.0</kd>
    <mu1>0.0</mu1>
    <maxVel>3.0</maxVel>
    <minDepth>0.0001</minDepth>
    <maxContacts>5</maxContacts>
    <selfCollide>false</selfCollide>
    <dampingFactor>0.01</dampingFactor>
  </gazebo>
  <!-- toe -->
  <gazebo reference="leg_l_link6">
    <kp>1000000.0</kp>
    <kd>100.0</kd>
    <mu1>0.0</mu1>
    <maxVel>3.0</maxVel>
    <minDepth>0.0001</minDepth>
    <maxContacts>5</maxContacts>
    <selfCollide>false</selfCollide>
    <dampingFactor>0.01</dampingFactor>
  </gazebo>
  <gazebo reference="leg_l_link7">
    <kp>1000000.0</kp>
    <kd>100.0</kd>
    <mu1>0.0</mu1>
    <maxVel>3.0</maxVel>
    <minDepth>0.0001</minDepth>
    <maxContacts>5</maxContacts>
    <selfCollide>false</selfCollide>
    <dampingFactor>0.01</dampingFactor>
  </gazebo>
  <gazebo reference="leg_l_link8">
    <kp>1000000.0</kp>
    <kd>100.0</kd>
    <mu1>1.0</mu1>
    <maxVel>3.0</maxVel>
    <minDepth>0.0001</minDepth>
    <maxContacts>5</maxContacts>
    <selfCollide>false</selfCollide>
    <dampingFactor>0.01</dampingFactor>
  </gazebo>
  <gazebo reference="leg_l_spring_link0">
    <kp>1000000.0</kp>
    <kd>100.0</kd>
    <mu1>1.0</mu1>
    <maxVel>3.0</maxVel>
    <minDepth>0.0001</minDepth>
    <maxContacts>0</maxContacts>
    <selfCollide>false</selfCollide>
    <dampingFactor>0.01</dampingFactor>
  </gazebo>
  <gazebo reference="leg_l_spring_link1">
    <kp>1000000.0</kp>
    <kd>100.0</kd>
    <mu1>1.0</mu1>
    <maxVel>3.0</maxVel>
    <minDepth>0.0001</minDepth>
    <maxContacts>0</maxContacts>
    <selfCollide>false</selfCollide>
    <dampingFactor>0.01</dampingFactor>
  </gazebo>
  <gazebo reference="leg_l_spring_link2">
    <kp>1000000.0</kp>
    <kd>100.0</kd>
    <mu1>1.0</mu1>
    <maxVel>3.0</maxVel>
    <minDepth>0.0001</minDepth>
    <maxContacts>0</maxContacts>
    <selfCollide>false</selfCollide>
    <dampingFactor>0.01</dampingFactor>
  </gazebo>
  <gazebo reference="leg_l_spring_link3">
    <kp>1000000.0</kp>
    <kd>100.0</kd>
    <mu1>1.0</mu1>
    <maxVel>3.0</maxVel>
    <minDepth>0.0001</minDepth>
    <maxContacts>0</maxContacts>
    <selfCollide>false</selfCollide>
    <dampingFactor>0.01</dampingFactor>
  </gazebo>
  <!-- Joints. Femoral first. -->
  <transmission name="leg_l_tran0">
    <type>transmission_interface/SimpleTransmission</type>
    <joint name="leg_l_joint0">
      <hardwareInterface>hardware_interface/EffortJointInterface</hardwareInterface>
    </joint>
    <actuator name="leg_l_motor0">
      <hardwareInterface>hardware_interface/EffortJointInterface</hardwareInterface>
      <mechanicalReduction>1</mechanicalReduction>
    </actuator>
  </transmission>
  <!-- parallel link (upper-1st) -->
  <transmission name="leg_l_tran1">
    <type>transmission_interface/SimpleTransmission</type>
    <joint name="leg_l_joint1">
      <hardwareInterface>hardware_interface/EffortJointInterface</hardwareInterface>
    </joint>
    <actuator name="leg_l_motor1">
      <hardwareInterface>hardware_interface/EffortJointInterface</hardwareInterface>
      <mechanicalReduction>1</mechanicalReduction>
    </actuator>
  </transmission>
  <!-- parallel link (upper-2nd) -->
  <!-- 		<gazebo>
			<plugin name="mimic_plugin" filename="libgazebo_mimic_plugin.so">
				<joint>${name}_joint1</joint>
				<mimicJoint>${name}_joint2</mimicJoint>
				<link>${name}_link1</link>
				<mimicLink>${name}_link2</mimicLink>
				<multiplier>1.0</multiplier>
			</plugin>
		</gazebo> -->
  <!-- knee -->
  <!-- 		<gazebo>
			<plugin name="mimic_plugin" filename="libgazebo_mimic_plugin.so">
				<joint>${name}_joint1</joint>
				<mimicJoint>${name}_joint3</mimicJoint>
				<link>${name}_link1</link>
				<mimicLink>${name}_link3</mimicLink>
				<multiplier>1.0</multiplier>
			</plugin>
		</gazebo> -->
  <!-- parallel link (lower-1st) -->
  <transmission name="leg_l_tran2">
    <type>transmission_interface/SimpleTransmission</type>
    <joint name="leg_l_joint4">
      <hardwareInterface>hardware_interface/EffortJointInterface</hardwareInterface>
    </joint>
    <actuator name="leg_l_motor2">
      <hardwareInterface>hardware_interface/EffortJointInterface</hardwareInterface>
      <mechanicalReduction>1</mechanicalReduction>
    </actuator>
  </transmission>
  <!-- parallel link (lower-2nd) -->
  <!-- 		<gazebo>
			<plugin name="mimic_plugin" filename="libgazebo_mimic_plugin.so">
				<joint>${name}_joint4</joint>
				<mimicJoint>${name}_joint5</mimicJoint>
				<link>${name}_link4</link>
				<mimicLink>${name}_link5</mimicLink>
				<multiplier>1.0</multiplier>
			</plugin>
		</gazebo> -->
  <!-- toe -->
  <!-- 		<gazebo>
			<plugin name="mimic_plugin" filename="libgazebo_mimic_plugin.so">
				<joint>${name}_joint4</joint>
				<mimicJoint>${name}_joint6</mimicJoint>
				<link>${name}_link4</link>
				<mimicLink>${name}_link6</mimicLink>
				<multiplier>1.0</multiplier>
			</plugin>
		</gazebo> -->
  <transmission name="leg_l_tran3">
    <type>transmission_interface/SimpleTransmission</type>
    <joint name="leg_l_joint7">
      <hardwareInterface>hardware_interface/EffortJointInterface</hardwareInterface>
    </joint>
    <actuator name="leg_l_motor3">
      <hardwareInterface>hardware_interface/EffortJointInterface</hardwareInterface>
      <mechanicalReduction>1</mechanicalReduction>
    </actuator>
  </transmission>
  <transmission name="leg_l_tran4">
    <type>transmission_interface/SimpleTransmission</type>
    <joint name="leg_l_joint8">
      <hardwareInterface>hardware_interface/EffortJointInterface</hardwareInterface>
    </joint>
    <actuator name="leg_l_motor4">
      <hardwareInterface>hardware_interface/EffortJointInterface</hardwareInterface>
      <mechanicalReduction>1</mechanicalReduction>
    </actuator>
  </transmission>
  <!-- 		<transmission name="${name}_tran1_rev">
			<type>transmission_interface/SimpleTransmission</type>
			<joint name="${name}_joint1_rev">
				<hardwareInterface>hardware_interface/EffortJointInterface</hardwareInterface>
			</joint>
			<actuator name="${name}_motor1_rev">
				<hardwareInterface>hardware_interface/EffortJointInterface</hardwareInterface>
				<mechanicalReduction>1</mechanicalReduction>
			</actuator>
		</transmission> -->
  <!-- 		<gazebo>
		  	<arg base_joint_name="${name}_joint1"/>
		  	<arg mimic_joint_name="${name}_joint1_rev"/>
		  	<arg base_link_name="${name}_link1"/>
		  	<arg mimic_link_name="${name}_link1_rev"/>
			<plugin name="mimic_plugin" filename="libgazebo_mimic_plugin.so">
				<joint>${base_joint_name}</joint>
				<mimicJoint>${mimic_joint_name}</mimicJoint>
				<link>${base_link_name}</link>
				<mimicLink>${mimic_link_name}</mimicLink>
				<multiplier>-1.0</multiplier>
			</plugin>
		</gazebo> -->
  <!-- Femoral -->
  <link name="leg_r_link0">
    <collision>
      <origin rpy="0 0 0" xyz="0 0 0"/>
      <geometry>
        <mesh filename="package://ginko_description/meshes/stl/link02_r_femoral.stl"/>
      </geometry>
    </collision>
    <visual>
      <origin rpy="0 0 0" xyz="0 0 0"/>
      <geometry>
        <mesh filename="package://ginko_description/meshes/stl/link02_r_femoral.stl"/>
      </geometry>
    </visual>
    <inertial>
      <mass value="0.03431457"/>
      <origin rpy="0 0 0" xyz="-0.02905818 -0.03723481 -0.02604954"/>
      <inertia ixx="0.00002441" ixy="0.00000001" ixz="0.00000021" iyy="0.00002285" iyz="0.00000391" izz="0.00002980"/>
    </inertial>
  </link>
  <joint name="leg_r_joint0" type="revolute">
    <parent link="body_link1"/>
    <child link="leg_r_link0"/>
    <origin rpy="0 0 0" xyz="0.0205 0.0 -0.0409"/>
    <axis xyz="1 0 0"/>
    <limit effort="100.0" lower="-1.1781" upper="0.8" velocity="10.0"/>
  </joint>
  <!-- parallel link (upper-1st) -->
  <link name="leg_r_link1">
    <collision>
      <origin rpy="0 0 0" xyz="0 0 0"/>
      <geometry>
        <mesh filename="package://ginko_description/meshes/stl/link03_r_leg01.stl"/>
      </geometry>
    </collision>
    <visual>
      <origin rpy="0 0 0" xyz="0 0 0"/>
      <geometry>
        <mesh filename="package://ginko_description/meshes/stl/link03_r_leg01.stl"/>
      </geometry>
    </visual>
    <inertial>
      <mass value="0.18525690"/>
      <origin rpy="0 0 0" xyz="0.05000000 -0.01719078 0.00068146"/>
      <inertia ixx="0.00055489" ixy="-0.00004242" ixz="0.00000000" iyy="0.00027917" iyz="-0.00000175" izz="0.00081028"/>
    </inertial>
  </link>
  <joint name="leg_r_joint1" type="revolute">
    <parent link="leg_r_link0"/>
    <child link="leg_r_link1"/>
    <origin rpy="0 0.7854 0" xyz="-0.0176 -0.0175 -0.0481"/>
    <axis xyz="0 1 0"/>
    <limit effort="100.0" lower="-0.7854" upper="1.3" velocity="10.0"/>
  </joint>
  <!-- parallel link (upper-2nd) -->
  <link name="leg_r_link2">
    <collision>
      <origin rpy="0 0 0" xyz="0 0 0"/>
      <geometry>
        <mesh filename="package://ginko_description/meshes/stl/link04_r_leg02.stl"/>
      </geometry>
    </collision>
    <visual>
      <origin rpy="0 0 0" xyz="0 0 0"/>
      <geometry>
        <mesh filename="package://ginko_description/meshes/stl/link04_r_leg02.stl"/>
      </geometry>
    </visual>
    <inertial>
      <mass value="0.01646643"/>
      <origin rpy="0 0 0" xyz="0.05000000 -0.02495100 -0.00491150"/>
      <inertia ixx="0.00000640" ixy="0.00000000" ixz="0.00000000" iyy="0.00001642" iyz="0.00000000" izz="0.00002264"/>
    </inertial>
  </link>
  <joint name="leg_r_joint2" type="revolute">
    <parent link="leg_r_link0"/>
    <child link="leg_r_link2"/>
    <origin rpy="0 0.7854 0" xyz="-0.0389 -0.0175 -0.06015"/>
    <axis xyz="0 1 0"/>
    <limit effort="100.0" lower="-3.141593" upper="3.141593" velocity="10.0"/>
  </joint>
  <!-- spring -->
  <link name="leg_r_spring_link0">
    <!-- 	    	<collision>
				<origin xyz="0 0 0" rpy="0 0 0"/>
	    		<geometry>                                                              
					<mesh filename="package://ginko_description/meshes/stl/spring1.stl"/>
	    		</geometry>
			</collision> -->
    <visual>
      <origin rpy="0 0 0" xyz="0 0 0"/>
      <geometry>
        <mesh filename="package://ginko_description/meshes/stl/spring1.stl"/>
      </geometry>
    </visual>
    <inertial>
      <mass value="0.00143865"/>
      <origin rpy="0 0 0" xyz="0.03091683 0.0 0.0"/>
      <inertia ixx="0.00000001" ixy="0.00000000" ixz="0.00000000" iyy="0.00000060" iyz="0.00000000" izz="0.00000060"/>
    </inertial>
  </link>
  <joint name="leg_r_spring_joint0" type="revolute">
    <parent link="leg_r_link0"/>
    <child link="leg_r_spring_link0"/>
    <origin rpy="0 0.56756754 0" xyz="-0.0389 -0.0755 -0.06015"/>
    <axis xyz="0 -1 0"/>
    <limit effort="0.0" lower="-3.141593" upper="3.141593" velocity="10.0"/>
  </joint>
  <link name="leg_r_spring_link1">
    <!-- 	    	<collision>
				<origin xyz="0 0 0" rpy="0 0 0"/>
	    		<geometry>                                                              
					<mesh filename="package://ginko_description/meshes/stl/spring2.stl"/>
	    		</geometry>
			</collision> -->
    <visual>
      <origin rpy="0 0 0" xyz="0 0 0"/>
      <geometry>
        <mesh filename="package://ginko_description/meshes/stl/spring2.stl"/>
      </geometry>
    </visual>
    <inertial>
      <mass value="0.00143865"/>
      <origin rpy="0 0 0" xyz="0.03091683 0.0 0.0"/>
      <inertia ixx="0.00000001" ixy="0.00000000" ixz="0.00000000" iyy="0.00000060" iyz="0.00000000" izz="0.00000060"/>
    </inertial>
  </link>
  <joint name="leg_r_spring_joint1" type="prismatic">
    <parent link="leg_r_spring_link0"/>
    <child link="leg_r_spring_link1"/>
    <origin rpy="0 3.141593 0" xyz="0.10911938 0.0 0.0"/>
    <axis xyz="0 -1 0"/>
    <limit effort="1000.0" lower="-3.141593" upper="3.141593" velocity="10.0"/>
  </joint>
  <!-- knee -->
  <link name="leg_r_link3">
    <collision>
      <origin rpy="0 0 0" xyz="0 0 0"/>
      <geometry>
        <mesh filename="package://ginko_description/meshes/stl/link05_r_knee.stl"/>
      </geometry>
    </collision>
    <visual>
      <origin rpy="0 0 0" xyz="0 0 0"/>
      <geometry>
        <mesh filename="package://ginko_description/meshes/stl/link05_r_knee.stl"/>
      </geometry>
    </visual>
    <inertial>
      <mass value="0.01781176"/>
      <origin rpy="0 0 0" xyz="0.00393357 -0.02364163 -0.01930000"/>
      <inertia ixx="0.00001301" ixy="-0.00000008" ixz="0.00000000" iyy="0.00000700" iyz="0.00000000" izz="0.00001388"/>
    </inertial>
  </link>
  <joint name="leg_r_joint3" type="revolute">
    <parent link="leg_r_link1"/>
    <child link="leg_r_link3"/>
    <origin rpy="0 -0.7854 0" xyz="0.1 0.0 0.0"/>
    <axis xyz="0 -1 0"/>
    <limit effort="100.0" lower="-3.141593" upper="3.141593" velocity="10.0"/>
  </joint>
  <!-- parallel link (lower-1st) -->
  <link name="leg_r_link4">
    <collision>
      <origin rpy="0 0 0" xyz="0 0 0"/>
      <geometry>
        <mesh filename="package://ginko_description/meshes/stl/link03_r_leg01.stl"/>
      </geometry>
    </collision>
    <visual>
      <origin rpy="0 0 0" xyz="0 0 0"/>
      <geometry>
        <mesh filename="package://ginko_description/meshes/stl/link03_r_leg01.stl"/>
      </geometry>
    </visual>
    <inertial>
      <mass value="0.18525690"/>
      <origin rpy="0 0 0" xyz="0.05000000 -0.01719078 0.00068146"/>
      <inertia ixx="0.00055489" ixy="-0.00004242" ixz="0.00000000" iyy="0.00027917" iyz="-0.00000175" izz="0.00081028"/>
    </inertial>
  </link>
  <joint name="leg_r_joint4" type="revolute">
    <parent link="leg_r_link3"/>
    <child link="leg_r_link4"/>
    <origin rpy="0 2.3562 0" xyz="0 0 -0.0386"/>
    <axis xyz="0 1 0"/>
    <limit effort="100.0" lower="-1.3" upper="0.7854" velocity="10.0"/>
  </joint>
  <!-- parallel link (lower-2nd) -->
  <link name="leg_r_link5">
    <collision>
      <origin rpy="0 0 0" xyz="0 0 0"/>
      <geometry>
        <mesh filename="package://ginko_description/meshes/stl/link04_r_leg02.stl"/>
      </geometry>
    </collision>
    <visual>
      <origin rpy="0 0 0" xyz="0 0 0"/>
      <geometry>
        <mesh filename="package://ginko_description/meshes/stl/link04_r_leg02.stl"/>
      </geometry>
    </visual>
    <inertial>
      <mass value="0.01646643"/>
      <origin rpy="0 0 0" xyz="0.05000000 -0.02495100 -0.00491150"/>
      <inertia ixx="0.00000640" ixy="0.00000000" ixz="0.00000000" iyy="0.00001642" iyz="0.00000000" izz="0.00002264"/>
    </inertial>
  </link>
  <joint name="leg_r_joint5" type="revolute">
    <parent link="leg_r_link3"/>
    <child link="leg_r_link5"/>
    <origin rpy="0 2.3562 0" xyz="-0.0213 0 -0.02655"/>
    <axis xyz="0 1 0"/>
    <limit effort="100.0" lower="-3.141593" upper="3.141593" velocity="10.0"/>
  </joint>
  <!-- spring -->
  <link name="leg_r_spring_link2">
    <!-- 	    	<collision>
				<origin xyz="0 0 0" rpy="0 0 0"/>
	    		<geometry>                                                              
					<mesh filename="package://ginko_description/meshes/stl/spring1.stl"/>
	    		</geometry>
			</collision> -->
    <visual>
      <origin rpy="0 0 0" xyz="0 0 0"/>
      <geometry>
        <mesh filename="package://ginko_description/meshes/stl/spring1.stl"/>
      </geometry>
    </visual>
    <inertial>
      <mass value="0.00143865"/>
      <origin rpy="0 2.138363867 0" xyz="0.03091683 0.0 0.0"/>
      <inertia ixx="0.00000001" ixy="0.00000000" ixz="0.00000000" iyy="0.00000060" iyz="0.00000000" izz="0.00000060"/>
    </inertial>
  </link>
  <joint name="leg_r_spring_joint2" type="revolute">
    <parent link="leg_r_link3"/>
    <child link="leg_r_spring_link2"/>
    <origin rpy="0 2.574025114 0" xyz="0 -0.058 -0.0386"/>
    <axis xyz="0 -1 0"/>
    <limit effort="0.0" lower="-3.141593" upper="3.141593" velocity="10.0"/>
  </joint>
  <link name="leg_r_spring_link3">
    <!-- 	    	<collision>
				<origin xyz="0 0 0" rpy="0 0 0"/>
	    		<geometry>                                                              
					<mesh filename="package://ginko_description/meshes/stl/spring2.stl"/>
	    		</geometry>
			</collision> -->
    <visual>
      <origin rpy="0 0 0" xyz="0 0 0"/>
      <geometry>
        <mesh filename="package://ginko_description/meshes/stl/spring2.stl"/>
      </geometry>
    </visual>
    <inertial>
      <mass value="0.00143865"/>
      <origin rpy="0 0 0" xyz="0.03091683 0.0 0.0"/>
      <inertia ixx="0.00000001" ixy="0.00000000" ixz="0.00000000" iyy="0.00000060" iyz="0.00000000" izz="0.00000060"/>
    </inertial>
  </link>
  <joint name="leg_r_spring_joint3" type="prismatic">
    <parent link="leg_r_spring_link2"/>
    <child link="leg_r_spring_link3"/>
    <origin rpy="0 3.141593 0" xyz="0.10911938 0.0 0.0"/>
    <axis xyz="0 -1 0"/>
    <limit effort="1000.0" lower="-3.141593" upper="3.141593" velocity="10.0"/>
  </joint>
  <!-- toe -->
  <link name="leg_r_link6">
    <collision>
      <origin rpy="0 0 0" xyz="0 0 0"/>
      <geometry>
        <mesh filename="package://ginko_description/meshes/stl/link06_r_toe01.stl"/>
      </geometry>
    </collision>
    <visual>
      <origin rpy="0 0 0" xyz="0 0 0"/>
      <geometry>
        <mesh filename="package://ginko_description/meshes/stl/link06_r_toe01.stl"/>
      </geometry>
    </visual>
    <inertial>
      <mass value="0.08799204"/>
      <origin rpy="0 0 0" xyz="-0.04166125 -0.02463880 -0.02586249"/>
      <inertia ixx="0.00002815" ixy="0.00000041" ixz="0.00000980" iyy="0.00006846" iyz="0.00000026" izz="0.00006529"/>
    </inertial>
  </link>
  <joint name="leg_r_joint6" type="revolute">
    <parent link="leg_r_link4"/>
    <child link="leg_r_link6"/>
    <origin rpy="0 -2.3562 0" xyz="0.1 0.0 0.0"/>
    <axis xyz="0 -1 0"/>
    <limit effort="100.0" lower="-3.141593" upper="3.141593" velocity="10.0"/>
  </joint>
  <link name="leg_r_link7">
    <collision>
      <origin rpy="0 0 0" xyz="0 0 0"/>
      <geometry>
        <mesh filename="package://ginko_description/meshes/stl/link07_r_toe02.stl"/>
      </geometry>
    </collision>
    <visual>
      <origin rpy="0 0 0" xyz="0 0 0"/>
      <geometry>
        <mesh filename="package://ginko_description/meshes/stl/link07_r_toe02.stl"/>
      </geometry>
    </visual>
    <inertial>
      <mass value="0.10920041"/>
      <origin rpy="0 0 0" xyz="0.02658756 -0.00000053 -0.01782468"/>
      <inertia ixx="0.00003853" ixy="0.00000000" ixz="-0.00000479" iyy="0.00005192" iyz="0.00000000" izz="0.00003521"/>
    </inertial>
  </link>
  <joint name="leg_r_joint7" type="revolute">
    <parent link="leg_r_link6"/>
    <child link="leg_r_link7"/>
    <origin rpy="0 0 0" xyz="-0.028 -0.02475 -0.0391"/>
    <axis xyz="-1 0 0"/>
    <limit effort="100.0" lower="-1.6" upper="1.6" velocity="10.0"/>
  </joint>
  <link name="leg_r_link8">
    <collision>
      <origin rpy="0 0 0" xyz="0 0 0"/>
      <geometry>
        <mesh filename="package://ginko_description/meshes/stl/link08_r_toe03.stl"/>
      </geometry>
    </collision>
    <visual>
      <origin rpy="0 0 0" xyz="0 0 0"/>
      <geometry>
        <mesh filename="package://ginko_description/meshes/stl/link08_r_toe03.stl"/>
      </geometry>
    </visual>
    <inertial>
      <mass value="0.05363111"/>
      <origin rpy="0 0 0" xyz="0.00000000 0.00000000 -0.00269342"/>
      <inertia ixx="0.00002877" ixy="0.00000000" ixz="0.00000000" iyy="0.00007083" iyz="-0.00000000" izz="0.00009934"/>
    </inertial>
  </link>
  <joint name="leg_r_joint8" type="revolute">
    <parent link="leg_r_link7"/>
    <child link="leg_r_link8"/>
    <origin rpy="0 0 0" xyz="0.0342 0 -0.04"/>
    <axis xyz="0 0 1"/>
    <limit effort="100.0" lower="-2.6" upper="2.6" velocity="10.0"/>
  </joint>
  <!-- Link conencts from body. Femoral first. -->
  <gazebo reference="leg_r_link0">
    <kp>1000000.0</kp>
    <kd>100.0</kd>
    <mu1>0.0</mu1>
    <maxVel>3.0</maxVel>
    <minDepth>0.0001</minDepth>
    <maxContacts>5</maxContacts>
    <selfCollide>false</selfCollide>
    <dampingFactor>0.01</dampingFactor>
  </gazebo>
  <!-- parallel link (upper-1st) -->
  <gazebo reference="leg_r_link1">
    <kp>1000000.0</kp>
    <kd>100.0</kd>
    <mu1>0.0</mu1>
    <maxVel>3.0</maxVel>
    <minDepth>0.0001</minDepth>
    <maxContacts>5</maxContacts>
    <selfCollide>true</selfCollide>
    <dampingFactor>0.01</dampingFactor>
  </gazebo>
  <!-- parallel link (upper-2nd) -->
  <gazebo reference="leg_r_link2">
    <kp>1000000.0</kp>
    <kd>100.0</kd>
    <mu1>0.0</mu1>
    <maxVel>3.0</maxVel>
    <minDepth>0.0001</minDepth>
    <maxContacts>5</maxContacts>
    <selfCollide>false</selfCollide>
    <dampingFactor>0.01</dampingFactor>
  </gazebo>
  <!-- knee -->
  <gazebo reference="leg_r_link3">
    <kp>1000000.0</kp>
    <kd>100.0</kd>
    <mu1>0.3</mu1>
    <maxVel>3.0</maxVel>
    <minDepth>0.0001</minDepth>
    <maxContacts>5</maxContacts>
    <selfCollide>false</selfCollide>
    <dampingFactor>0.01</dampingFactor>
  </gazebo>
  <!-- parallel link (lower-1st) -->
  <gazebo reference="leg_r_link4">
    <kp>1000000.0</kp>
    <kd>100.0</kd>
    <mu1>0.0</mu1>
    <maxVel>3.0</maxVel>
    <minDepth>0.0001</minDepth>
    <maxContacts>5</maxContacts>
    <selfCollide>true</selfCollide>
    <dampingFactor>0.01</dampingFactor>
  </gazebo>
  <!-- parallel link (lower-2nd) -->
  <gazebo reference="leg_r_link5">
    <kp>1000000.0</kp>
    <kd>100.0</kd>
    <mu1>0.0</mu1>
    <maxVel>3.0</maxVel>
    <minDepth>0.0001</minDepth>
    <maxContacts>5</maxContacts>
    <selfCollide>false</selfCollide>
    <dampingFactor>0.01</dampingFactor>
  </gazebo>
  <!-- toe -->
  <gazebo reference="leg_r_link6">
    <kp>1000000.0</kp>
    <kd>100.0</kd>
    <mu1>0.0</mu1>
    <maxVel>3.0</maxVel>
    <minDepth>0.0001</minDepth>
    <maxContacts>5</maxContacts>
    <selfCollide>false</selfCollide>
    <dampingFactor>0.01</dampingFactor>
  </gazebo>
  <gazebo reference="leg_r_link7">
    <kp>1000000.0</kp>
    <kd>100.0</kd>
    <mu1>0.0</mu1>
    <maxVel>3.0</maxVel>
    <minDepth>0.0001</minDepth>
    <maxContacts>5</maxContacts>
    <selfCollide>false</selfCollide>
    <dampingFactor>0.01</dampingFactor>
  </gazebo>
  <gazebo reference="leg_r_link8">
    <kp>1000000.0</kp>
    <kd>100.0</kd>
    <mu1>1.0</mu1>
    <maxVel>3.0</maxVel>
    <minDepth>0.0001</minDepth>
    <maxContacts>5</maxContacts>
    <selfCollide>false</selfCollide>
    <dampingFactor>0.01</dampingFactor>
  </gazebo>
  <gazebo reference="leg_r_spring_link0">
    <kp>1000000.0</kp>
    <kd>100.0</kd>
    <mu1>1.0</mu1>
    <maxVel>3.0</maxVel>
    <minDepth>0.0001</minDepth>
    <maxContacts>0</maxContacts>
    <selfCollide>false</selfCollide>
    <dampingFactor>0.01</dampingFactor>
  </gazebo>
  <gazebo reference="leg_r_spring_link1">
    <kp>1000000.0</kp>
    <kd>100.0</kd>
    <mu1>1.0</mu1>
    <maxVel>3.0</maxVel>
    <minDepth>0.0001</minDepth>
    <maxContacts>0</maxContacts>
    <selfCollide>false</selfCollide>
    <dampingFactor>0.01</dampingFactor>
  </gazebo>
  <gazebo reference="leg_r_spring_link2">
    <kp>1000000.0</kp>
    <kd>100.0</kd>
    <mu1>1.0</mu1>
    <maxVel>3.0</maxVel>
    <minDepth>0.0001</minDepth>
    <maxContacts>0</maxContacts>
    <selfCollide>false</selfCollide>
    <dampingFactor>0.01</dampingFactor>
  </gazebo>
  <gazebo reference="leg_r_spring_link3">
    <kp>1000000.0</kp>
    <kd>100.0</kd>
    <mu1>1.0</mu1>
    <maxVel>3.0</maxVel>
    <minDepth>0.0001</minDepth>
    <maxContacts>0</maxContacts>
    <selfCollide>false</selfCollide>
    <dampingFactor>0.01</dampingFactor>
  </gazebo>
  <!-- Joints. Femoral first. -->
  <transmission name="leg_r_tran0">
    <type>transmission_interface/SimpleTransmission</type>
    <joint name="leg_r_joint0">
      <hardwareInterface>hardware_interface/EffortJointInterface</hardwareInterface>
    </joint>
    <actuator name="leg_r_motor0">
      <hardwareInterface>hardware_interface/EffortJointInterface</hardwareInterface>
      <mechanicalReduction>1</mechanicalReduction>
    </actuator>
  </transmission>
  <!-- parallel link (upper-1st) -->
  <transmission name="leg_r_tran1">
    <type>transmission_interface/SimpleTransmission</type>
    <joint name="leg_r_joint1">
      <hardwareInterface>hardware_interface/EffortJointInterface</hardwareInterface>
    </joint>
    <actuator name="leg_r_motor1">
      <hardwareInterface>hardware_interface/EffortJointInterface</hardwareInterface>
      <mechanicalReduction>1</mechanicalReduction>
    </actuator>
  </transmission>
  <!-- parallel link (upper-2nd) -->
  <!-- 		<gazebo>
			<plugin name="mimic_plugin" filename="libgazebo_mimic_plugin.so">
				<joint>${name}_joint1</joint>
				<mimicJoint>${name}_joint2</mimicJoint>
				<link>${name}_link1</link>
				<mimicLink>${name}_link2</mimicLink>
				<multiplier>1.0</multiplier>
			</plugin>
		</gazebo> -->
  <!-- knee -->
  <!-- 		<gazebo>
			<plugin name="mimic_plugin" filename="libgazebo_mimic_plugin.so">
				<joint>${name}_joint1</joint>
				<mimicJoint>${name}_joint3</mimicJoint>
				<link>${name}_link1</link>
				<mimicLink>${name}_link3</mimicLink>
				<multiplier>1.0</multiplier>
			</plugin>
		</gazebo> -->
  <!-- parallel link (lower-1st) -->
  <transmission name="leg_r_tran2">
    <type>transmission_interface/SimpleTransmission</type>
    <joint name="leg_r_joint4">
      <hardwareInterface>hardware_interface/EffortJointInterface</hardwareInterface>
    </joint>
    <actuator name="leg_r_motor2">
      <hardwareInterface>hardware_interface/EffortJointInterface</hardwareInterface>
      <mechanicalReduction>1</mechanicalReduction>
    </actuator>
  </transmission>
  <!-- parallel link (lower-2nd) -->
  <!-- 		<gazebo>
			<plugin name="mimic_plugin" filename="libgazebo_mimic_plugin.so">
				<joint>${name}_joint4</joint>
				<mimicJoint>${name}_joint5</mimicJoint>
				<link>${name}_link4</link>
				<mimicLink>${name}_link5</mimicLink>
				<multiplier>1.0</multiplier>
			</plugin>
		</gazebo> -->
  <!-- toe -->
  <!-- 		<gazebo>
			<plugin name="mimic_plugin" filename="libgazebo_mimic_plugin.so">
				<joint>${name}_joint4</joint>
				<mimicJoint>${name}_joint6</mimicJoint>
				<link>${name}_link4</link>
				<mimicLink>${name}_link6</mimicLink>
				<multiplier>1.0</multiplier>
			</plugin>
		</gazebo> -->
  <transmission name="leg_r_tran3">
    <type>transmission_interface/SimpleTransmission</type>
    <joint name="leg_r_joint7">
      <hardwareInterface>hardware_interface/EffortJointInterface</hardwareInterface>
    </joint>
    <actuator name="leg_r_motor3">
      <hardwareInterface>hardware_interface/EffortJointInterface</hardwareInterface>
      <mechanicalReduction>1</mechanicalReduction>
    </actuator>
  </transmission>
  <transmission name="leg_r_tran4">
    <type>transmission_interface/SimpleTransmission</type>
    <joint name="leg_r_joint8">
      <hardwareInterface>hardware_interface/EffortJointInterface</hardwareInterface>
    </joint>
    <actuator name="leg_r_motor4">
      <hardwareInterface>hardware_interface/EffortJointInterface</hardwareInterface>
      <mechanicalReduction>1</mechanicalReduction>
    </actuator>
  </transmission>
  <!-- 		<transmission name="${name}_tran1_rev">
			<type>transmission_interface/SimpleTransmission</type>
			<joint name="${name}_joint1_rev">
				<hardwareInterface>hardware_interface/EffortJointInterface</hardwareInterface>
			</joint>
			<actuator name="${name}_motor1_rev">
				<hardwareInterface>hardware_interface/EffortJointInterface</hardwareInterface>
				<mechanicalReduction>1</mechanicalReduction>
			</actuator>
		</transmission> -->
  <!-- 		<gazebo>
		  	<arg base_joint_name="${name}_joint1"/>
		  	<arg mimic_joint_name="${name}_joint1_rev"/>
		  	<arg base_link_name="${name}_link1"/>
		  	<arg mimic_link_name="${name}_link1_rev"/>
			<plugin name="mimic_plugin" filename="libgazebo_mimic_plugin.so">
				<joint>${base_joint_name}</joint>
				<mimicJoint>${mimic_joint_name}</mimicJoint>
				<link>${base_link_name}</link>
				<mimicLink>${mimic_link_name}</mimicLink>
				<multiplier>-1.0</multiplier>
			</plugin>
		</gazebo> -->
</robot>
